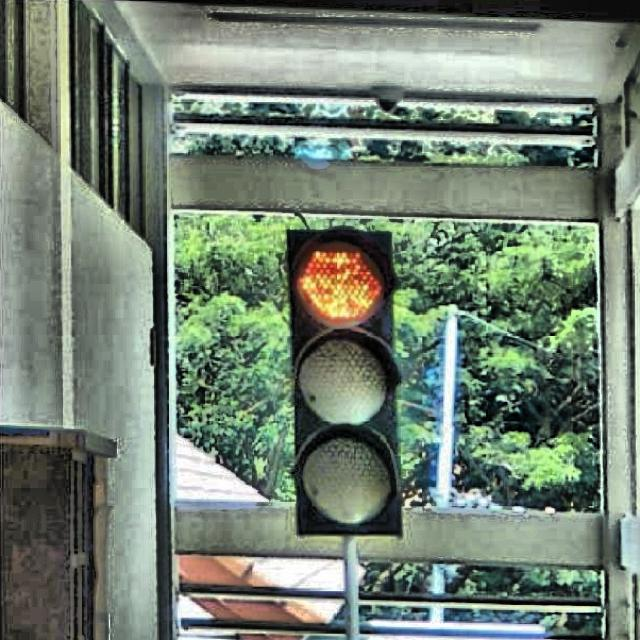red: (284, 228, 404, 544)
